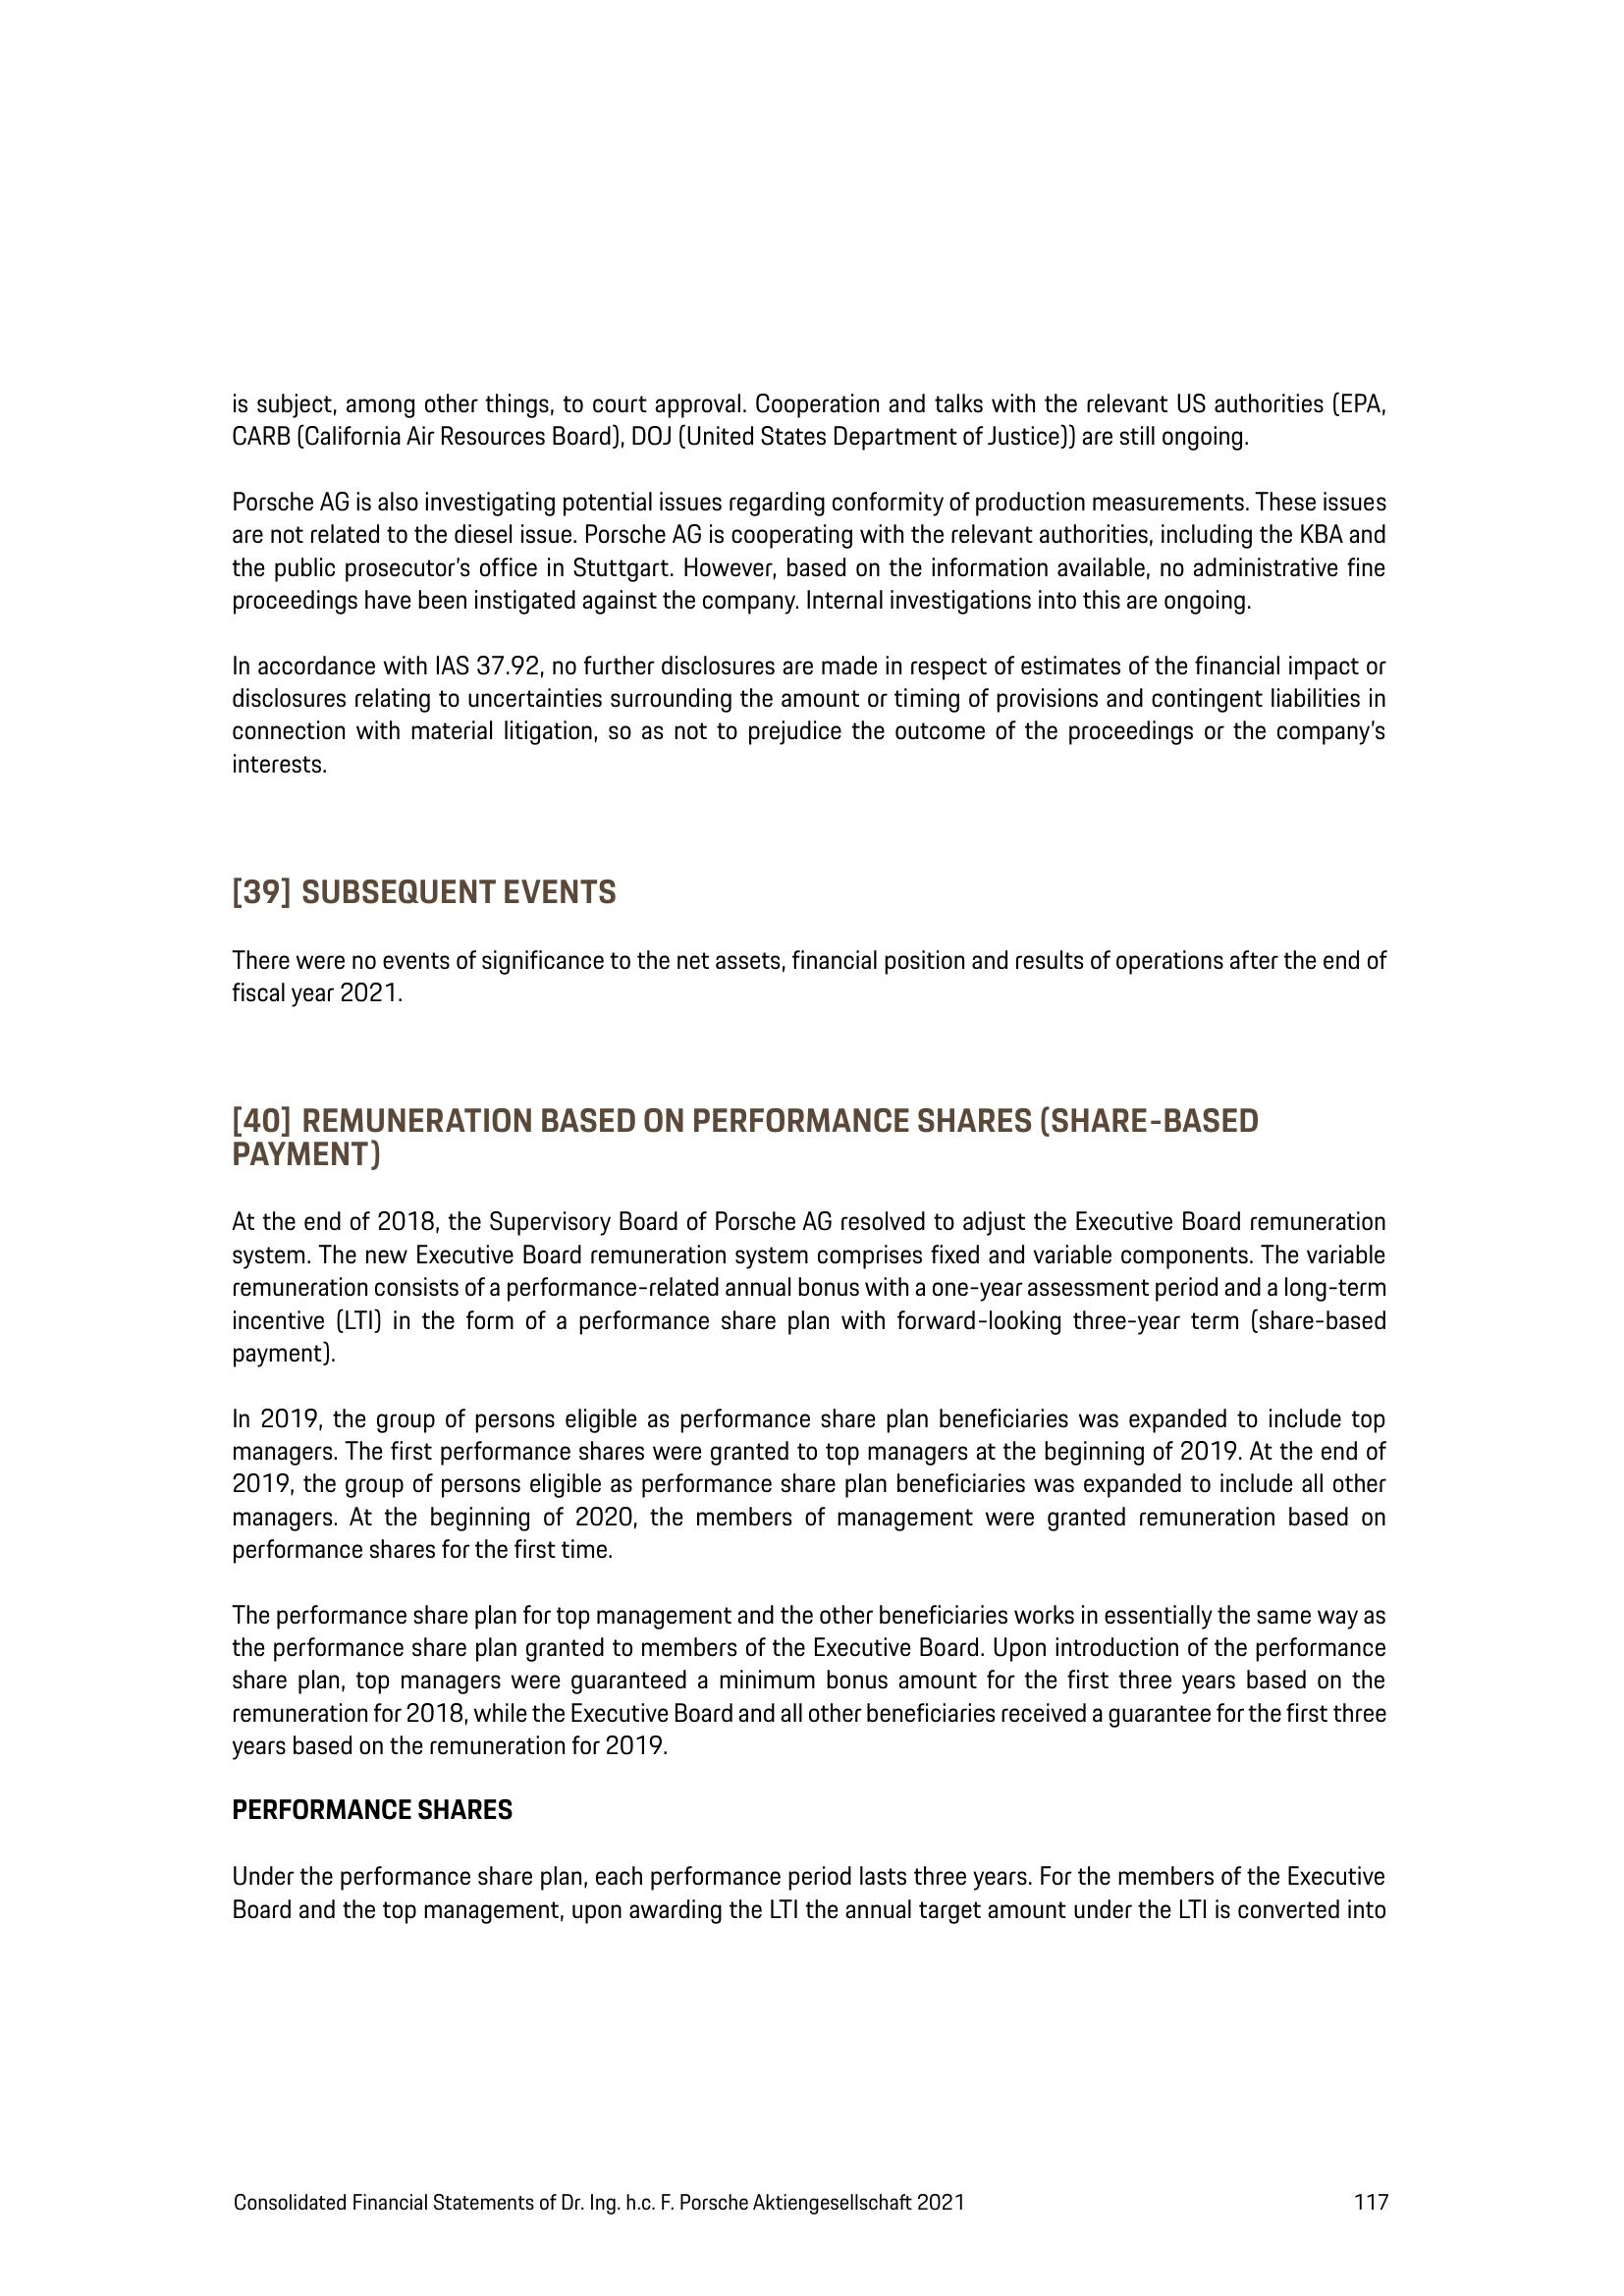Footer: (0, 2126, 1624, 2296)
Header: (0, 0, 1624, 255)
